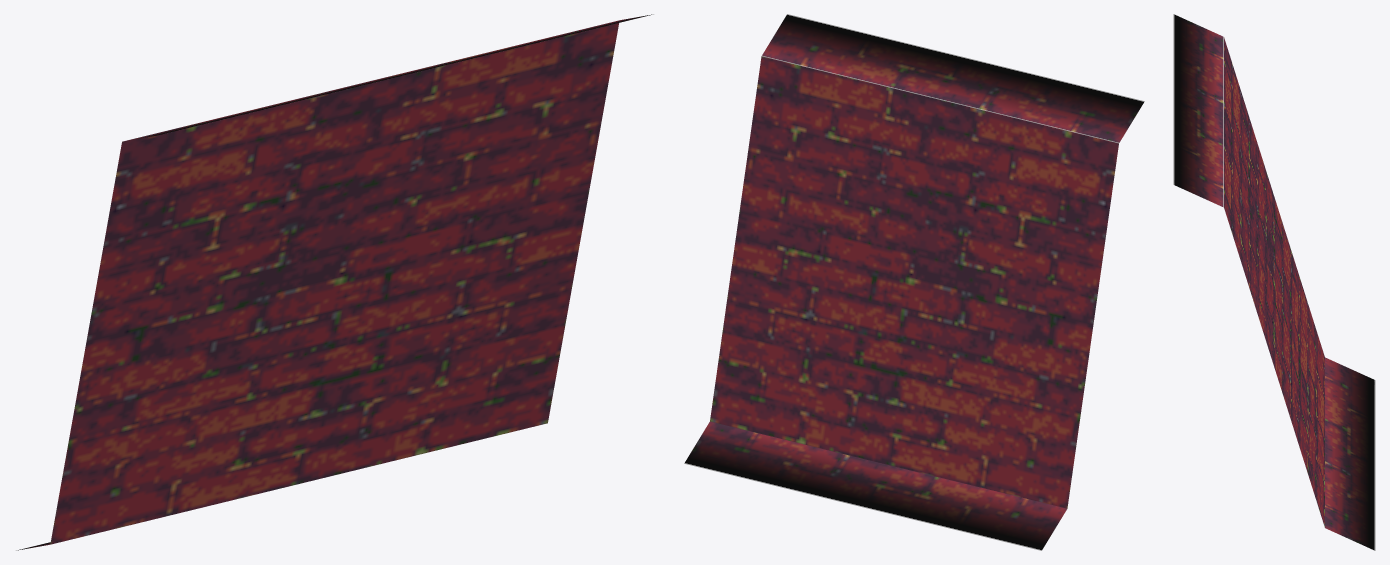
File: Wall Hell 03.fbx
3 renders of one model, left to right at view 1: azimuth 30°, elevation 25°; view 2: azimuth 150°, elevation 25°; view 3: azimuth 270°, elevation 25°, orthographic. The views are drawn at different scales.
Visible parts, largest first — view 1: mid, top; view 2: mid, bottom, top; view 3: mid, bottom, top.
Part boxes in pixels (x1=…): mid: x1=50, y1=23, x2=618, y2=544; top: x1=124, y1=14, x2=653, y2=141; mid: x1=710, y1=56, x2=1118, y2=508; bottom: x1=684, y1=421, x2=1066, y2=550; top: x1=762, y1=14, x2=1144, y2=143; mid: x1=1224, y1=37, x2=1324, y2=527; bottom: x1=1325, y1=357, x2=1375, y2=550; top: x1=1173, y1=14, x2=1223, y2=207.
Bounding box in the file's own units: 100 × 100 × 50.
Materials: 2 (2 with a texture image).
